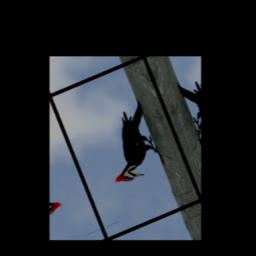Woodpecker: (90, 98, 168, 187)
